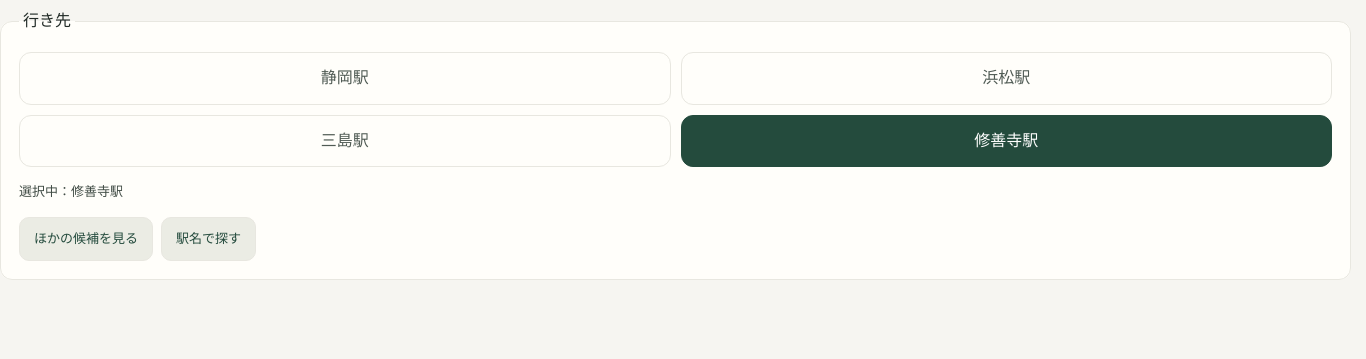
Scenario: shows a selected gateway outside the first three without reordering the main choices
The width and height of the screenshot is (1366, 359).
Click the button "ほかの候補を見る" at (86, 239), box [19,217,153,261]
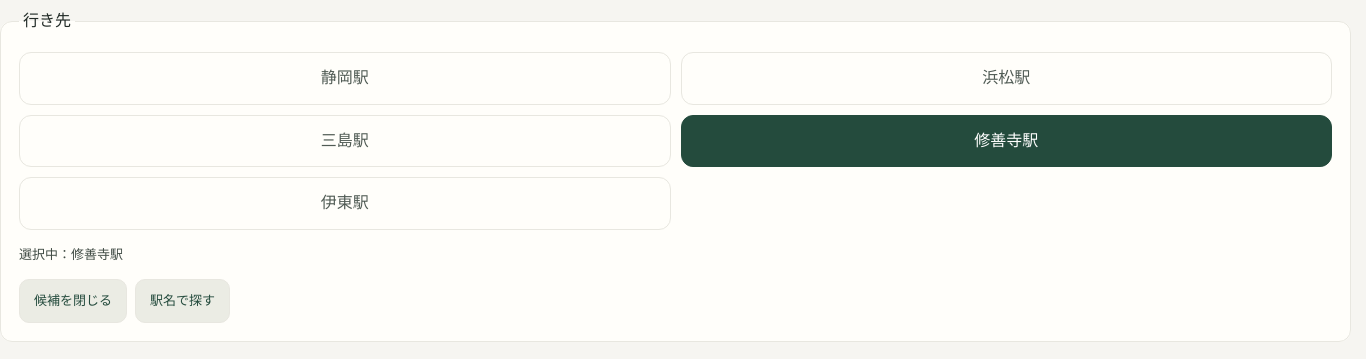
Expected: the number of buttons "修善寺駅" is 1, [680,115,1332,167]
Now the button "伊東駅" is shown, box [19,177,670,230]
